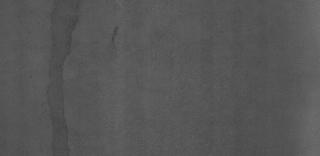water spot: (41, 8, 97, 151)
